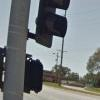Traffic light: (22, 0, 86, 48)
